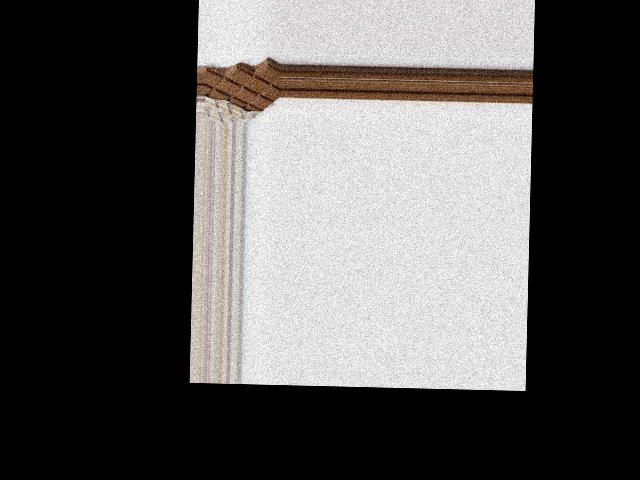chocolate: (203, 61, 279, 122)
